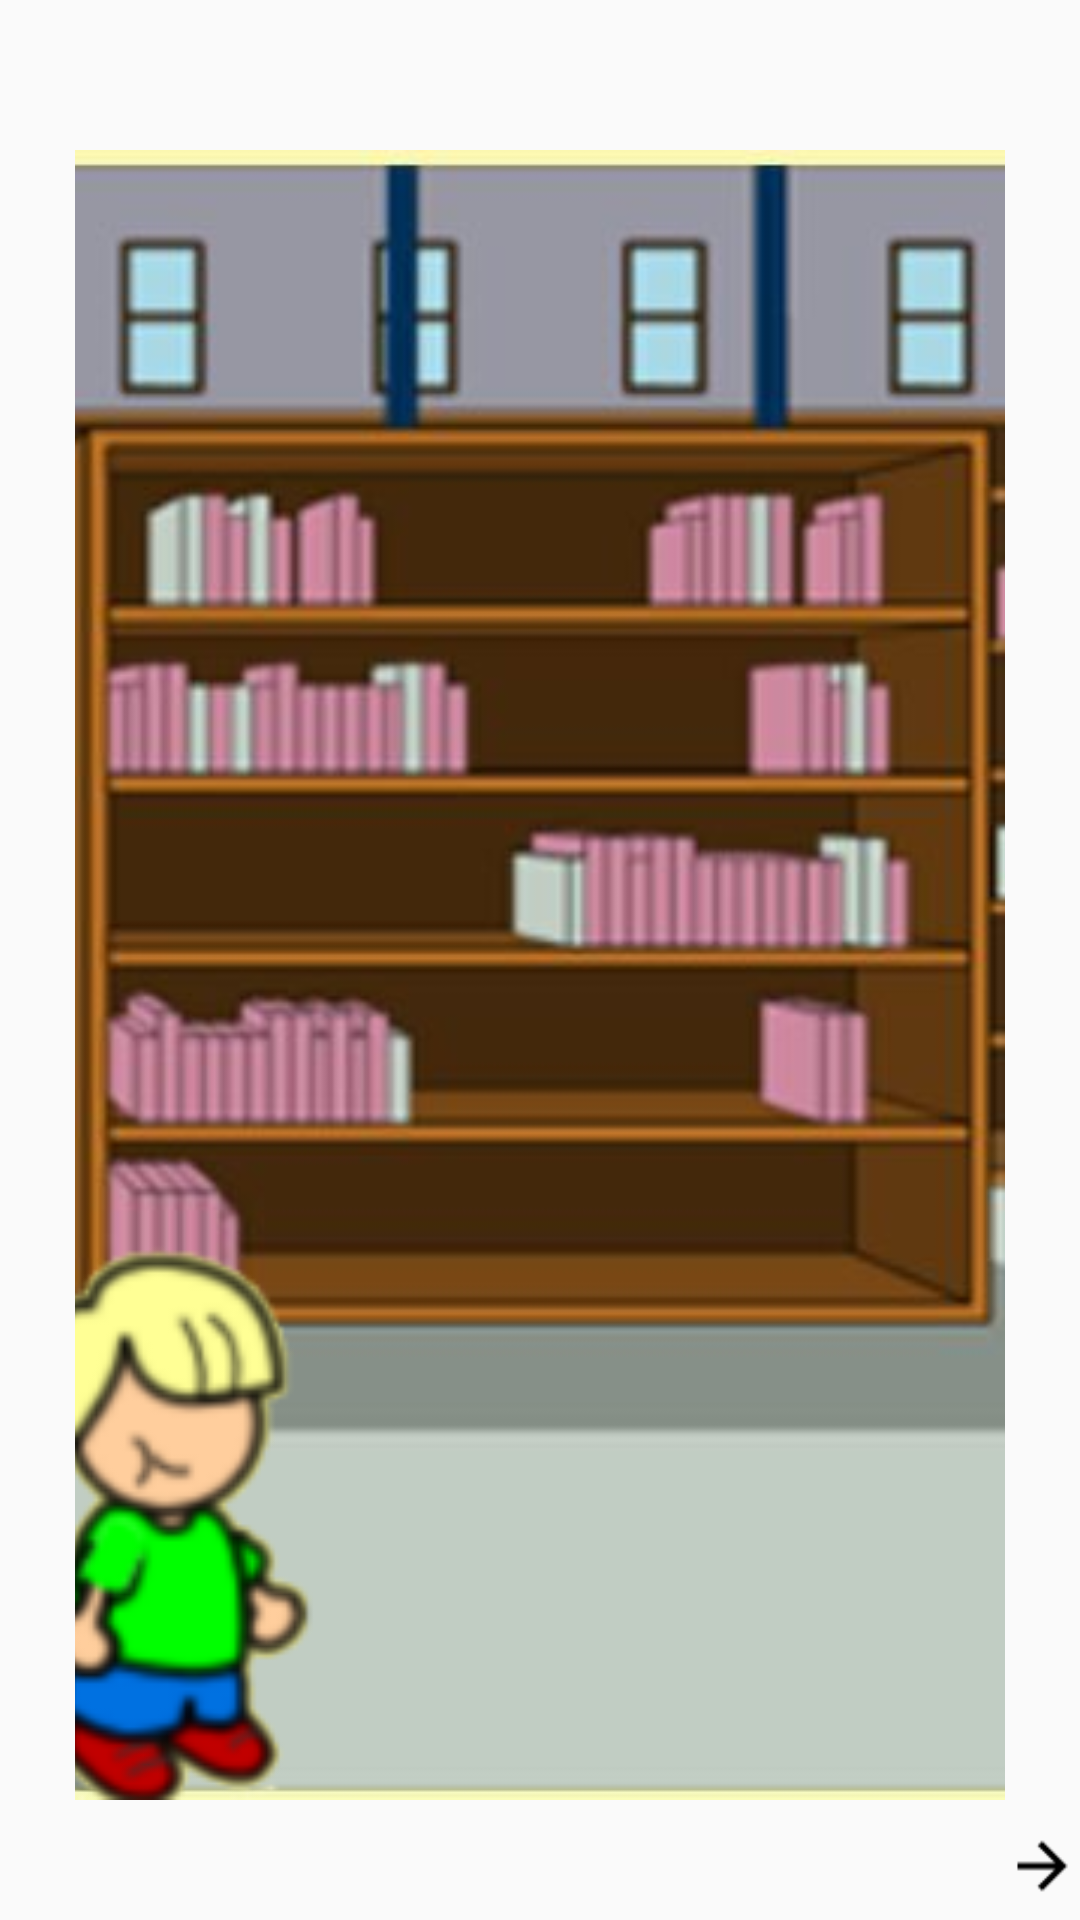

Where icons sit on this 1080*1920 app screen, as [x1=x1, y1=y1, x2=x2, y2=y2]:
arrow right: [x1=1017, y1=1840, x2=1068, y2=1892]
